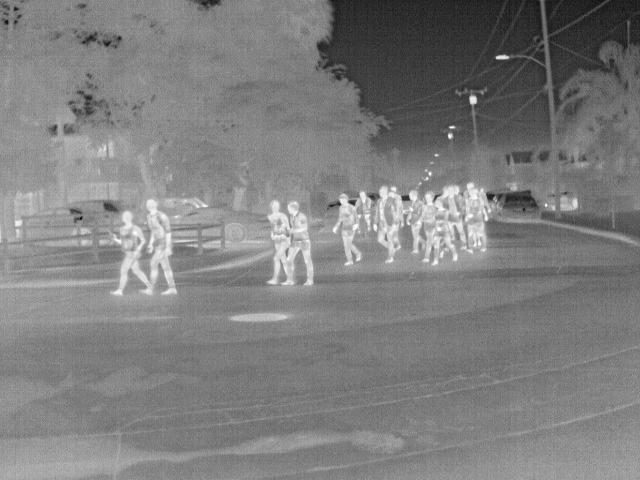car: (225, 206, 271, 243), (493, 192, 542, 223), (178, 204, 224, 225), (162, 195, 207, 213), (74, 198, 125, 213), (28, 206, 84, 218), (321, 204, 339, 232)
person: (108, 209, 151, 296), (137, 219, 181, 298), (285, 199, 317, 289), (264, 198, 295, 286), (424, 196, 460, 266), (334, 193, 365, 267), (373, 184, 401, 262), (461, 189, 485, 253), (406, 188, 426, 256), (419, 188, 438, 240), (355, 190, 374, 237)
